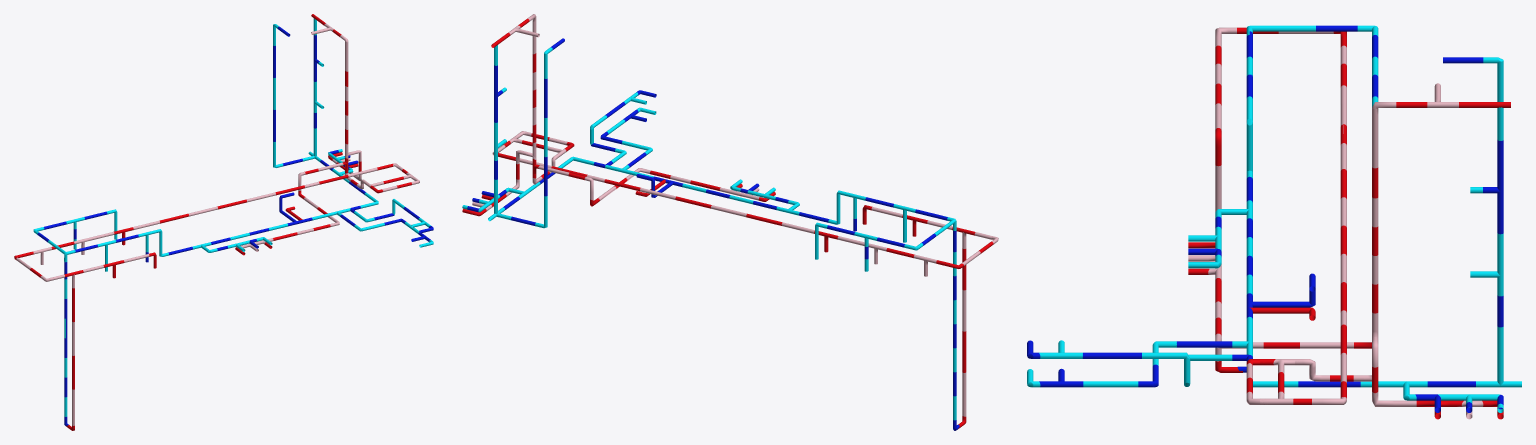
The model's file is pipes.glb.
The picture shows the model from 3 angles, left to right: view 1: azimuth 30°, elevation 25°; view 2: azimuth 150°, elevation 25°; view 3: azimuth 270°, elevation 25°; orthographic projection. The views are drawn at different scales.
Visible parts, largest first — view 1: pipes.035, pipes.061; view 2: pipes.035, pipes.061; view 3: pipes.035, pipes.061.
Boxes of the visible parts, x1,y1,x2,y2 form: pipes.035: (33,18,433,425); pipes.061: (14,14,419,430); pipes.035: (462,38,959,430); pipes.061: (462,14,998,428); pipes.035: (1027,25,1521,412); pipes.061: (1188,27,1510,419).
Size of the model in its own units: 28.2 by 20.42 by 15.78.
